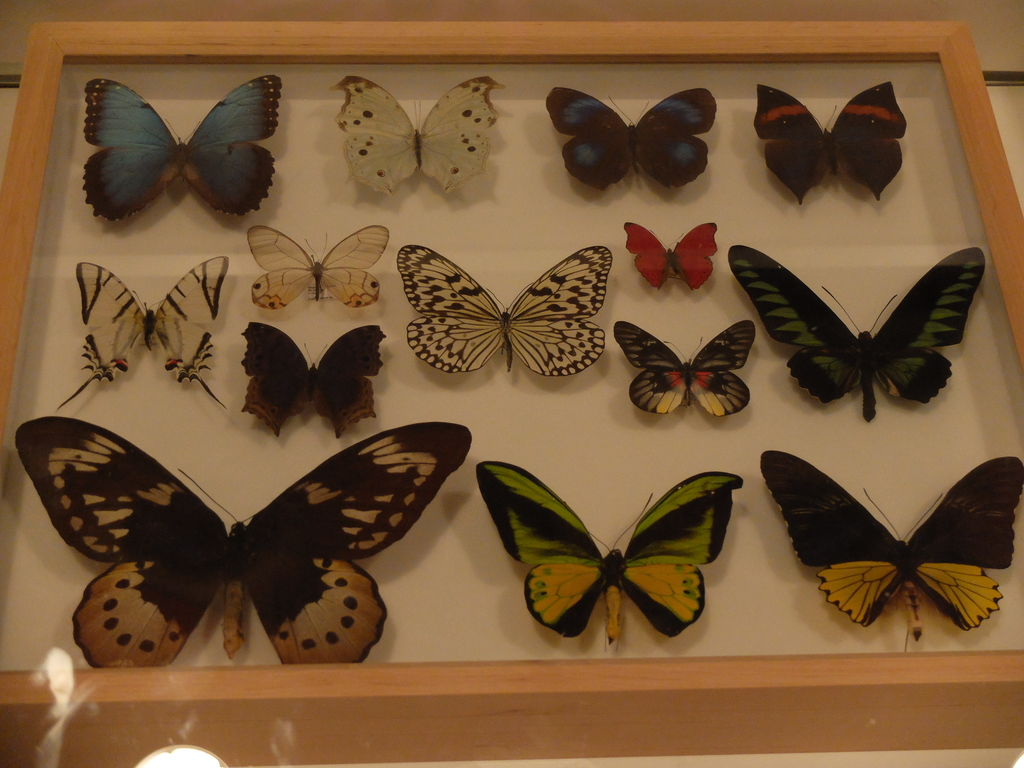Butterfly: (18, 417, 477, 688), (732, 212, 1020, 434), (752, 436, 1024, 665), (482, 458, 752, 656), (395, 231, 623, 388), (318, 71, 527, 230), (75, 76, 279, 231), (70, 244, 238, 415), (535, 74, 732, 207), (750, 79, 931, 208), (609, 313, 758, 434), (238, 326, 407, 426), (250, 213, 403, 311), (621, 221, 727, 298)
